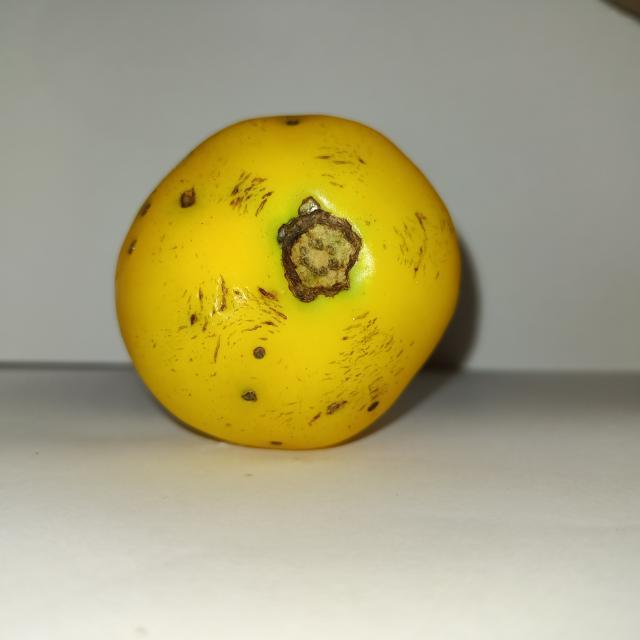Red: (113, 112, 463, 451)
